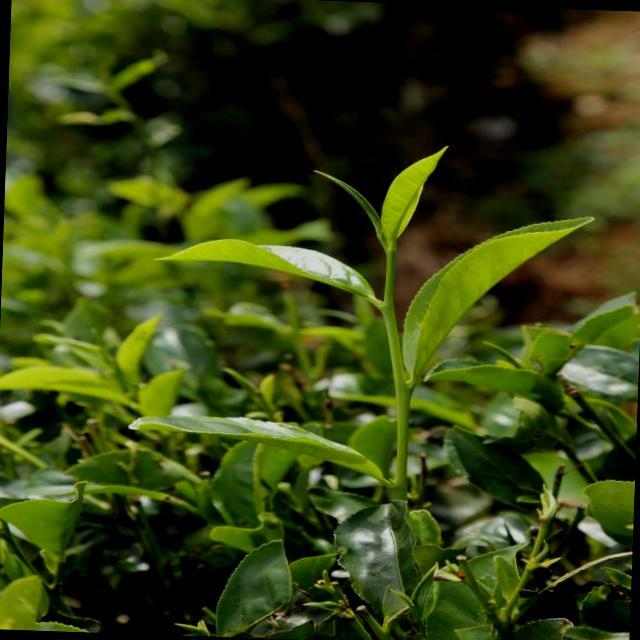Stem: (382, 311, 399, 344)
